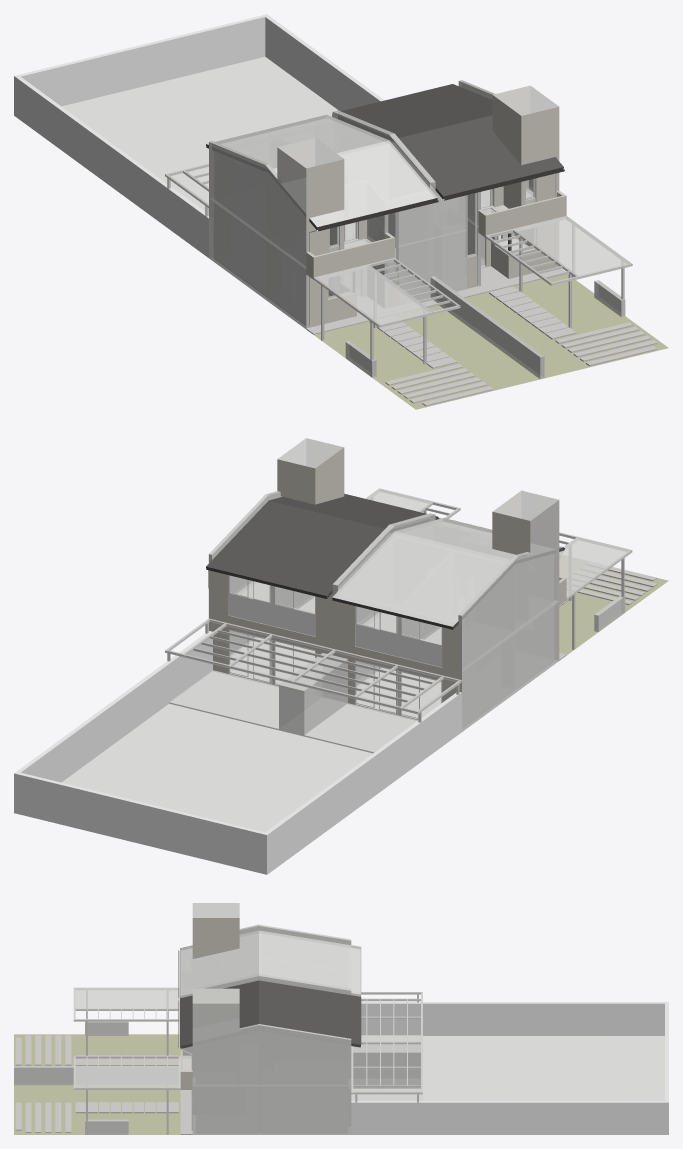
The model's file is modelo1-transformed.glb.
3 renders of one model, top to bottom at view 1: azimuth 30°, elevation 25°; view 2: azimuth 150°, elevation 25°; view 3: azimuth 270°, elevation 25°, orthographic. The views are drawn at different scales.
Parts seen in each view (by area): view 1: Node13, Node1; view 2: Node1, Node13; view 3: Node1, Node13.
Boxes of the visible parts, x1,y1,x2,y2 form: Node13: (14, 14, 668, 409); Node1: (61, 57, 632, 379); Node1: (62, 438, 632, 832); Node13: (14, 439, 668, 874); Node1: (14, 903, 664, 1134); Node13: (14, 918, 668, 1134).
Size of the model in its own units: 475 by 287 by 1299.
Materials: 2 (2 with a texture image).
